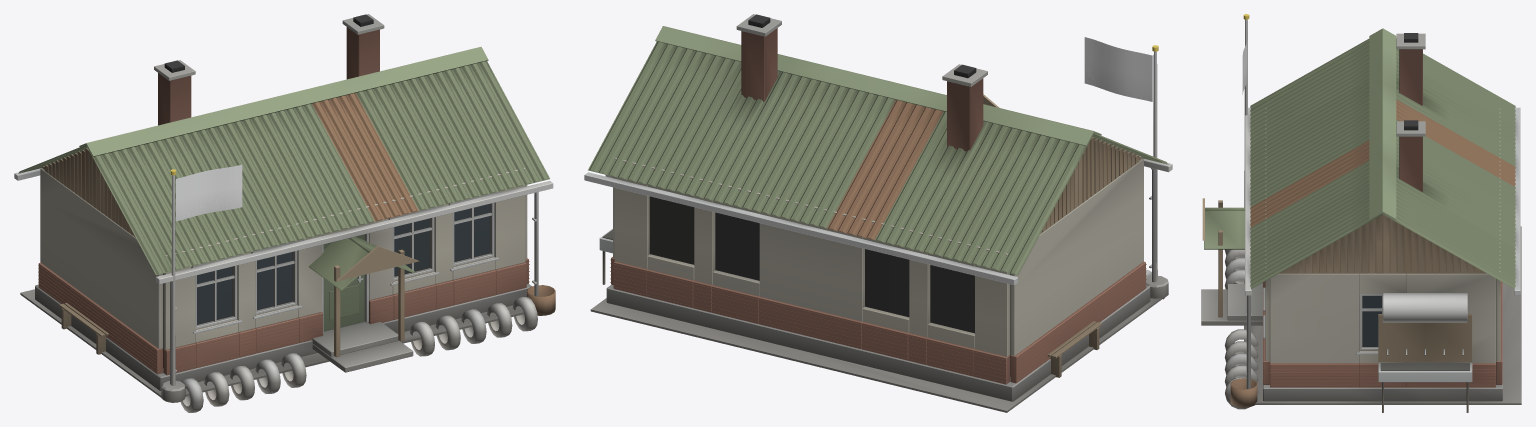
The model's file is struct_barracks_rus.glb.
3 views of the same model, side by side, from view 1: azimuth 30°, elevation 25°; view 2: azimuth 150°, elevation 25°; view 3: azimuth 270°, elevation 25° (orthographic). The views are drawn at different scales.
Parts seen in each view (by area): view 1: struct_barracks_rus; view 2: struct_barracks_rus; view 3: struct_barracks_rus.
Boxes of the visible parts, left/top/right/bottom form: struct_barracks_rus: left=14, top=14, right=555, bottom=412; struct_barracks_rus: left=584, top=14, right=1172, bottom=412; struct_barracks_rus: left=1201, top=14, right=1521, bottom=412.
Bounding box in the file's own units: 9.49 × 5.88 × 6.81.
